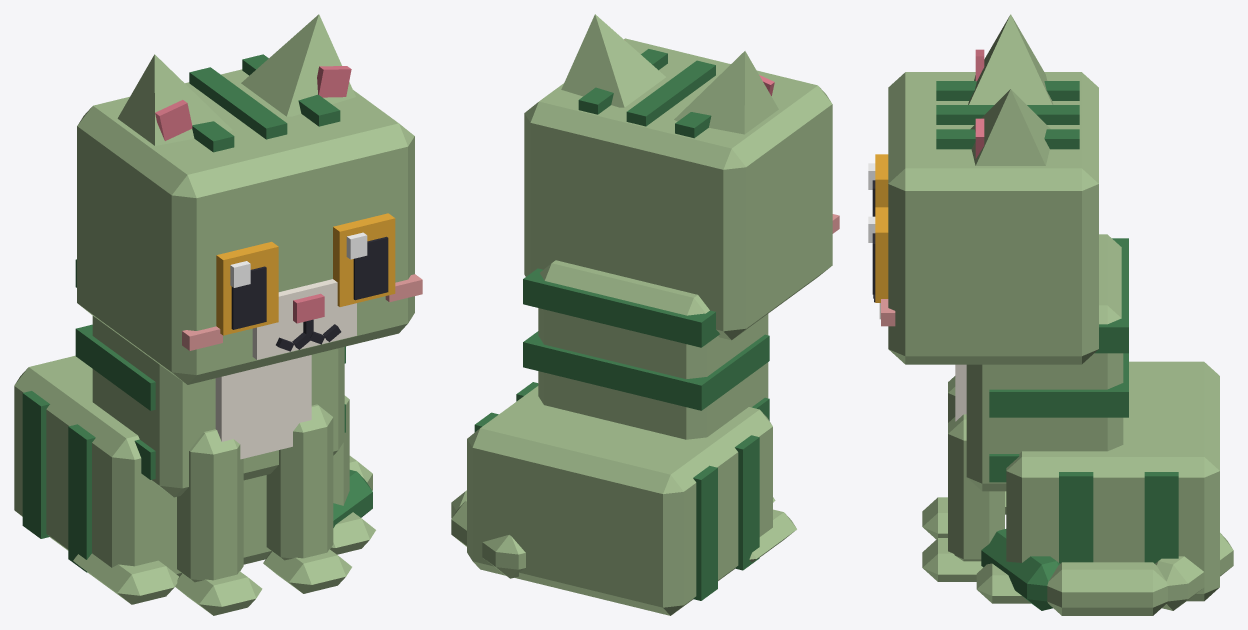
File: CatCafe_Cat_Fern_Sit.glb
3 renders of one model, left to right at view 1: azimuth 30°, elevation 25°; view 2: azimuth 150°, elevation 25°; view 3: azimuth 270°, elevation 25°, orthographic. The views are drawn at different scales.
Parts seen in each view (by area): view 1: CatCafe_Cat_Fern_Sit_Head, CatCafe_Cat_Fern_Sit_Body, CatCafe_Cat_Fern_Sit_LegF2, CatCafe_Cat_Fern_Sit_LegF1, CatCafe_Cat_Fern_Sit_EarL, CatCafe_Cat_Fern_Sit_Eye2, CatCafe_Cat_Fern_Sit_Eye1, CatCafe_Cat_Fern_Sit_EarR, CatCafe_Cat_Fern_Sit_Tail; view 2: CatCafe_Cat_Fern_Sit_Body, CatCafe_Cat_Fern_Sit_Head, CatCafe_Cat_Fern_Sit_EarL, CatCafe_Cat_Fern_Sit_EarR, CatCafe_Cat_Fern_Sit_Tail; view 3: CatCafe_Cat_Fern_Sit_Head, CatCafe_Cat_Fern_Sit_Body, CatCafe_Cat_Fern_Sit_Tail, CatCafe_Cat_Fern_Sit_LegF1, CatCafe_Cat_Fern_Sit_EarL, CatCafe_Cat_Fern_Sit_EarR, CatCafe_Cat_Fern_Sit_Eye1, CatCafe_Cat_Fern_Sit_LegF2, CatCafe_Cat_Fern_Sit_Eye2.
Part boxes in pixels (x1,y1,x2,y2): CatCafe_Cat_Fern_Sit_Head: (77,54,422,384); CatCafe_Cat_Fern_Sit_Body: (14,259,375,604); CatCafe_Cat_Fern_Sit_LegF2: (175,429,262,615); CatCafe_Cat_Fern_Sit_LegF1: (263,404,351,593); CatCafe_Cat_Fern_Sit_EarL: (241,14,355,116); CatCafe_Cat_Fern_Sit_Eye2: (216,241,278,335); CatCafe_Cat_Fern_Sit_Eye1: (333,213,395,306); CatCafe_Cat_Fern_Sit_EarR: (117,54,232,145); CatCafe_Cat_Fern_Sit_Tail: (333,456,372,527); CatCafe_Cat_Fern_Sit_Body: (467,260,796,615); CatCafe_Cat_Fern_Sit_Head: (524,38,839,340); CatCafe_Cat_Fern_Sit_EarL: (561,14,665,107); CatCafe_Cat_Fern_Sit_EarR: (674,51,778,134); CatCafe_Cat_Fern_Sit_Tail: (451,490,525,578); CatCafe_Cat_Fern_Sit_Head: (873,72,1098,364); CatCafe_Cat_Fern_Sit_Body: (955,234,1219,603); CatCafe_Cat_Fern_Sit_Tail: (981,529,1233,615); CatCafe_Cat_Fern_Sit_LegF1: (922,414,1004,581); CatCafe_Cat_Fern_Sit_EarL: (970,89,1050,165); CatCafe_Cat_Fern_Sit_EarR: (968,14,1053,104); CatCafe_Cat_Fern_Sit_Eye1: (868,207,888,302); CatCafe_Cat_Fern_Sit_LegF2: (922,376,955,539); CatCafe_Cat_Fern_Sit_Eye2: (868,154,888,216).
Size of the model in its own units: 1.05 by 1.85 by 1.22.
1 material, 1 textured.
